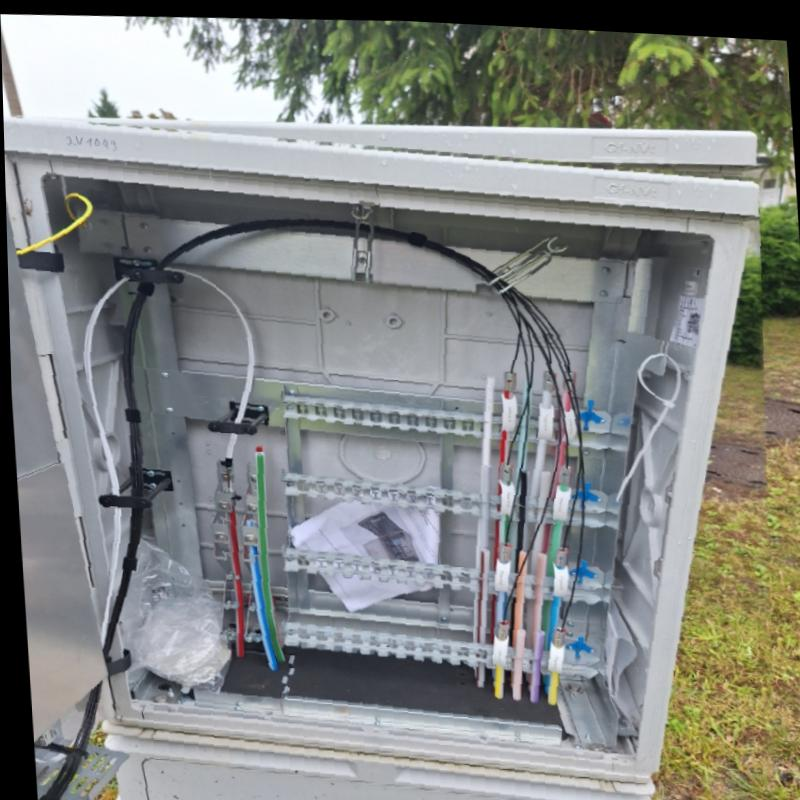NT-Gehause: (3, 115, 757, 800)
